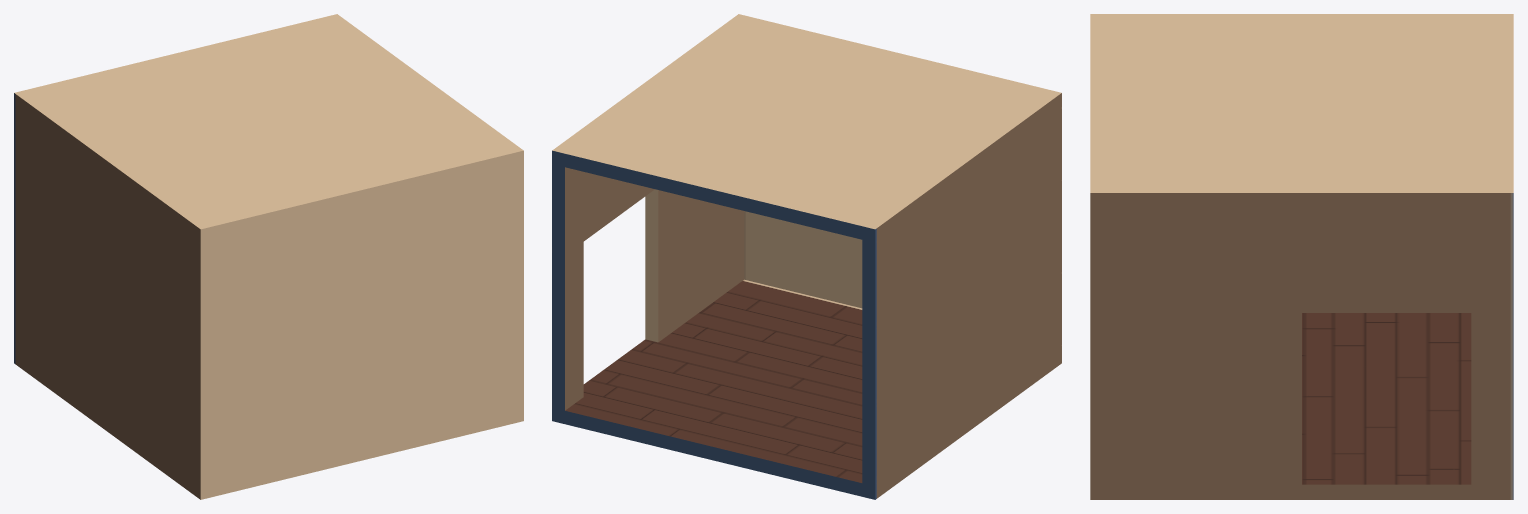
Rendered from RoomSIngle_with LEFT HALL.fbx.
3 renders of one model, left to right at view 1: azimuth 30°, elevation 25°; view 2: azimuth 150°, elevation 25°; view 3: azimuth 270°, elevation 25°, orthographic. The views are drawn at different scales.
Visible parts, largest first — view 1: Room_2hallLEFT; view 2: Room_2hallLEFT; view 3: Room_2hallLEFT.
Boxes of the visible parts, bbox=[...] form: Room_2hallLEFT: bbox=[14, 14, 523, 499]; Room_2hallLEFT: bbox=[552, 14, 1061, 499]; Room_2hallLEFT: bbox=[1090, 14, 1513, 499].
Bounding box in the file's own units: 500 × 400 × 500.
